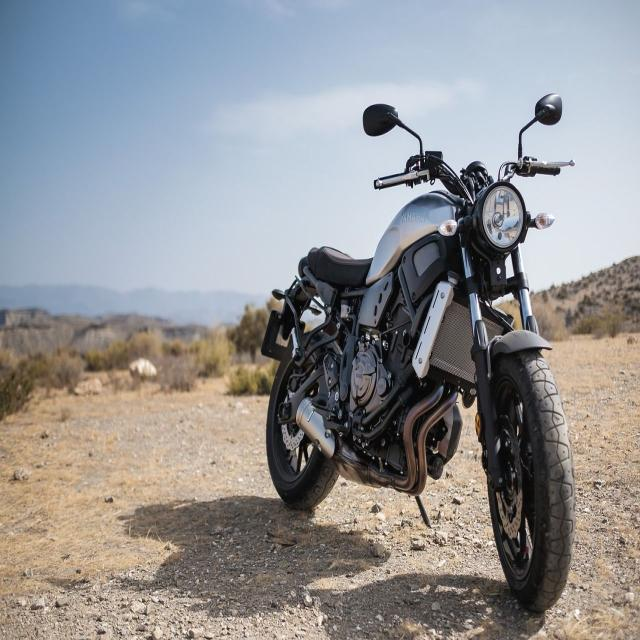MOTORCYCLE: (267, 101, 563, 536)
